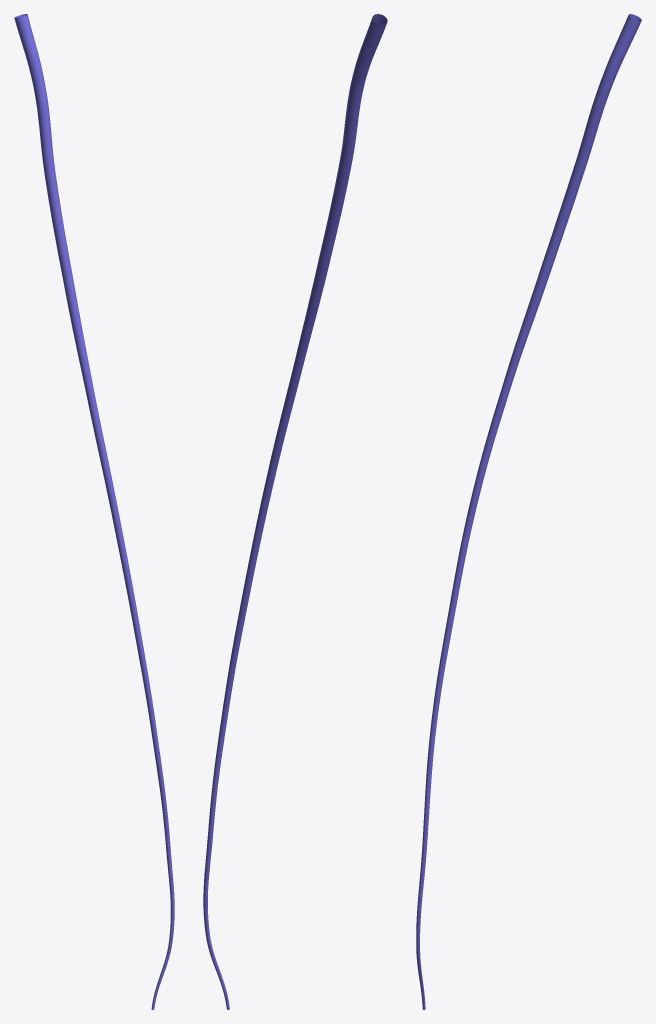
File: Lateral_thoracic_artery.l_BezierCurve.312.glb
The picture shows the model from 3 angles, left to right: view 1: azimuth 30°, elevation 25°; view 2: azimuth 210°, elevation 25°; view 3: azimuth 270°, elevation 25°; orthographic projection. The views are drawn at different scales.
Visible parts, largest first — view 1: Lateral_thoracic_artery.l_BezierCurve.312; view 2: Lateral_thoracic_artery.l_BezierCurve.312; view 3: Lateral_thoracic_artery.l_BezierCurve.312.
Part boxes in pixels (x1,y1,x2,y2): Lateral_thoracic_artery.l_BezierCurve.312: (14,14,174,1009); Lateral_thoracic_artery.l_BezierCurve.312: (203,14,387,1009); Lateral_thoracic_artery.l_BezierCurve.312: (416,14,641,1009).
Size of the model in its own units: 0.0141 by 0.2209 by 0.0462.
